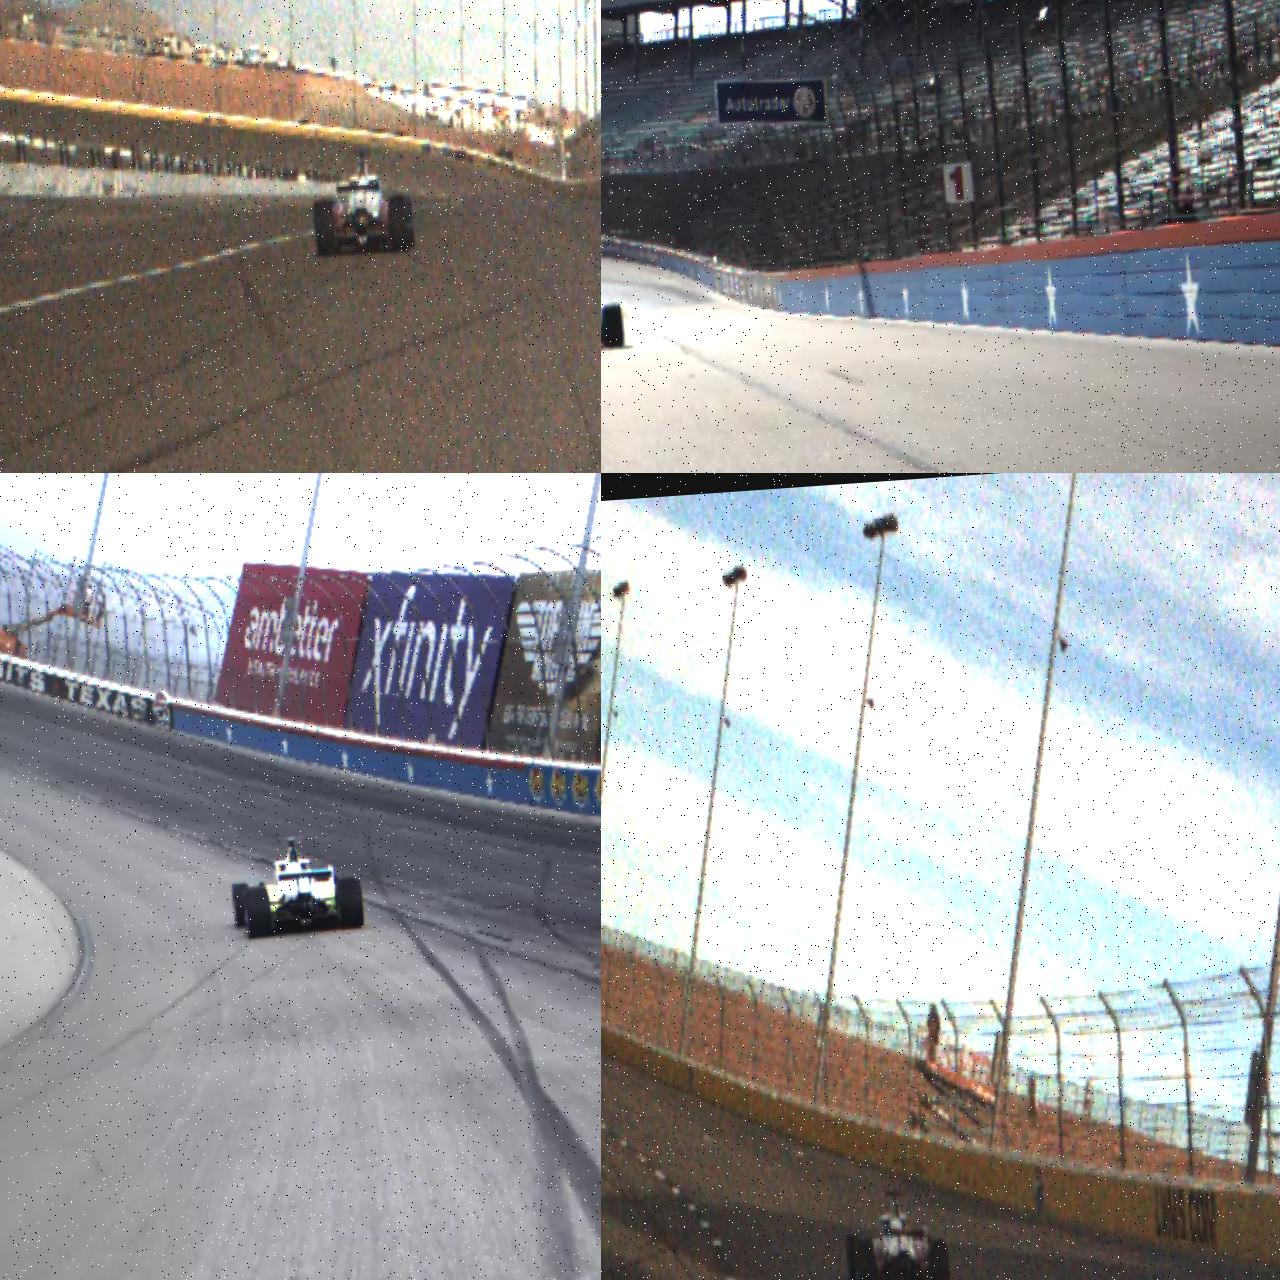AV: (228, 831, 366, 941), (309, 144, 416, 258), (840, 1182, 952, 1280), (601, 266, 626, 355)
Wheel: (337, 876, 365, 930), (245, 886, 272, 940), (314, 200, 338, 258), (388, 194, 410, 252), (602, 302, 626, 349), (853, 1238, 878, 1280), (232, 882, 252, 929), (930, 1238, 952, 1280), (844, 1233, 863, 1280)
